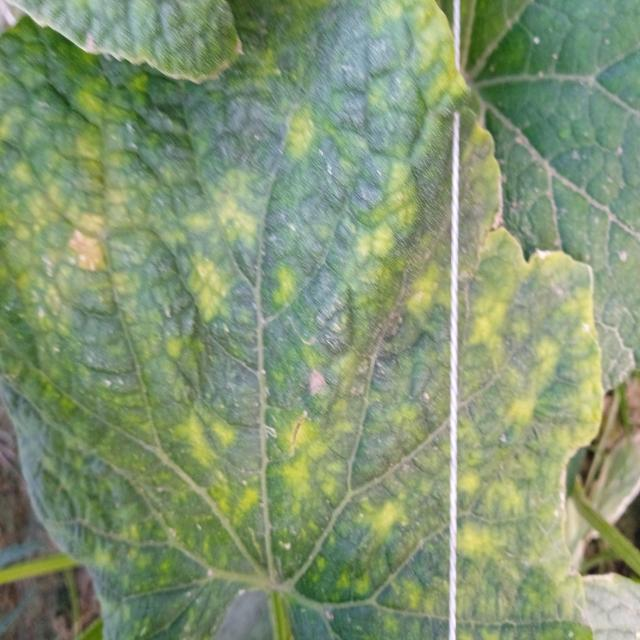cucumber_downy: (21, 81, 578, 543)
